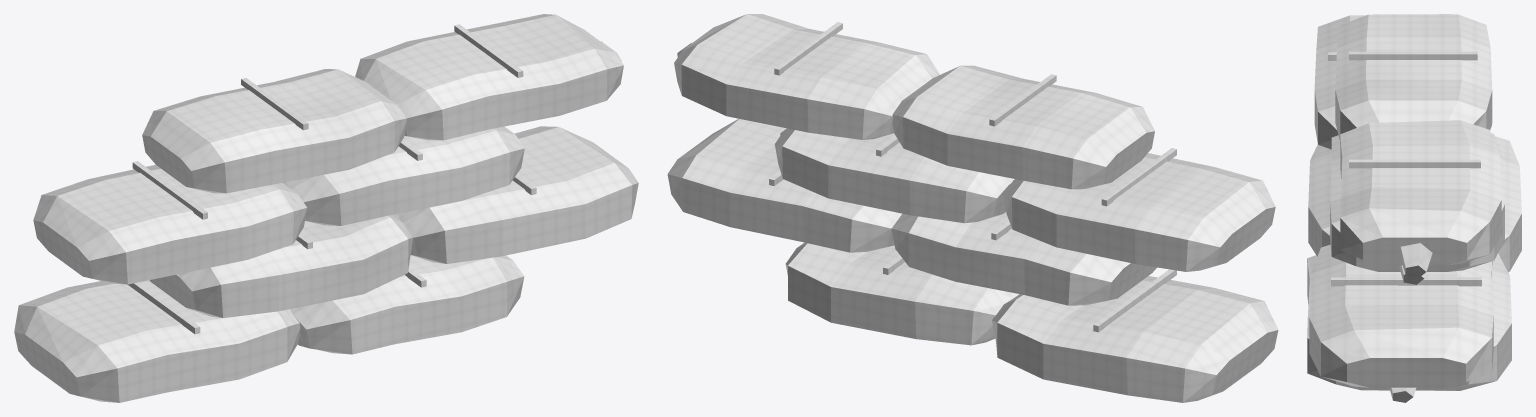
Rendered from sandbags_2.obj.
3 views of the same model, side by side, from view 1: azimuth 30°, elevation 25°; view 2: azimuth 150°, elevation 25°; view 3: azimuth 270°, elevation 25° (orthographic). The views are drawn at different scales.
Visible parts, largest first — view 1: sandbags_2; view 2: sandbags_2; view 3: sandbags_2.
Boxes of the visible parts, box(x1,y1,x2,y2) form: sandbags_2: box(14, 14, 638, 402); sandbags_2: box(667, 14, 1278, 402); sandbags_2: box(1307, 14, 1521, 402).
Size of the model in its own units: 1.32 by 0.5232 by 0.4134.
